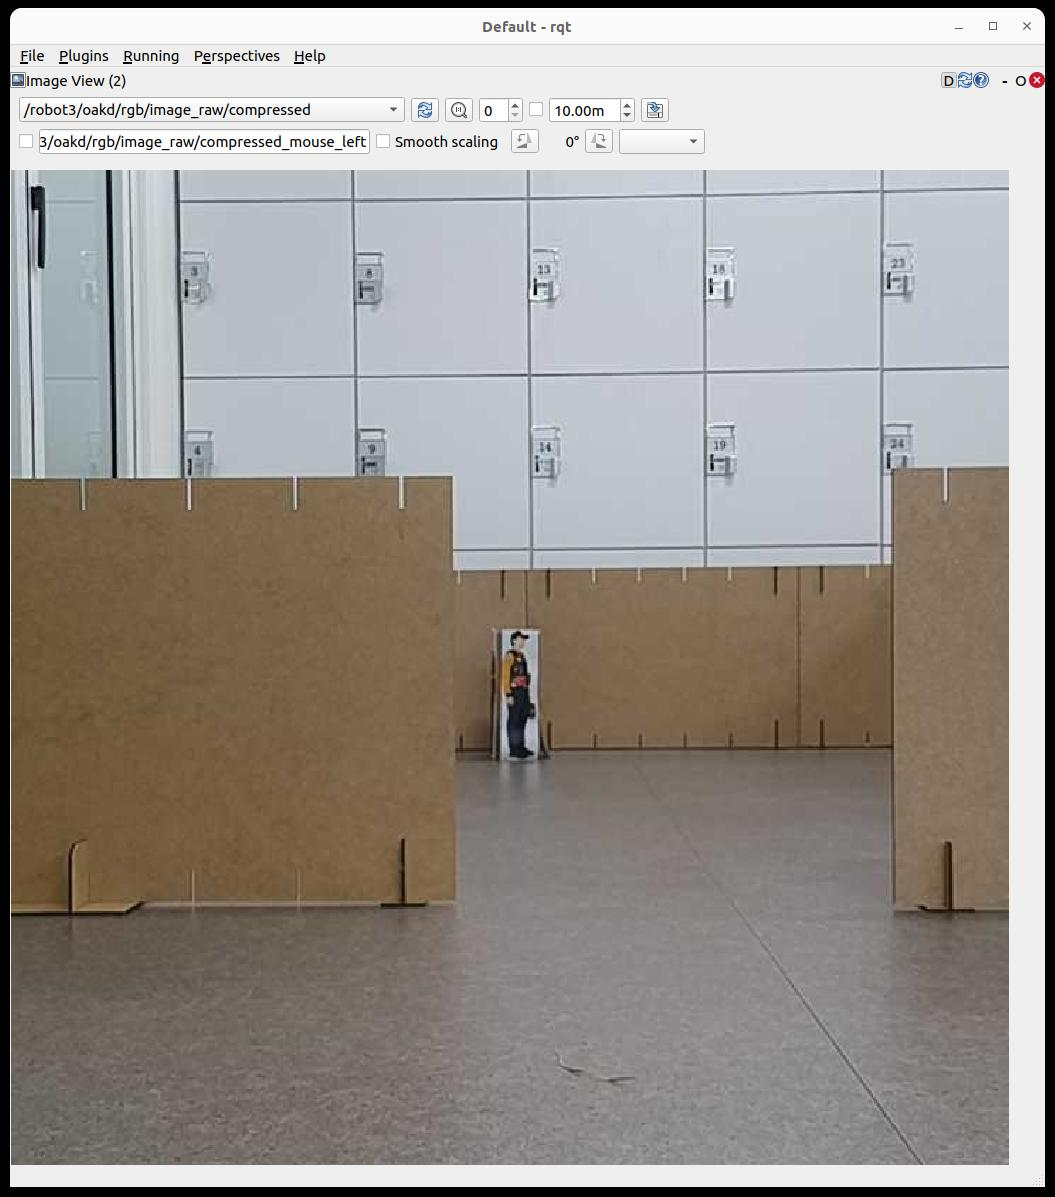Responder: (508, 630, 529, 753)
